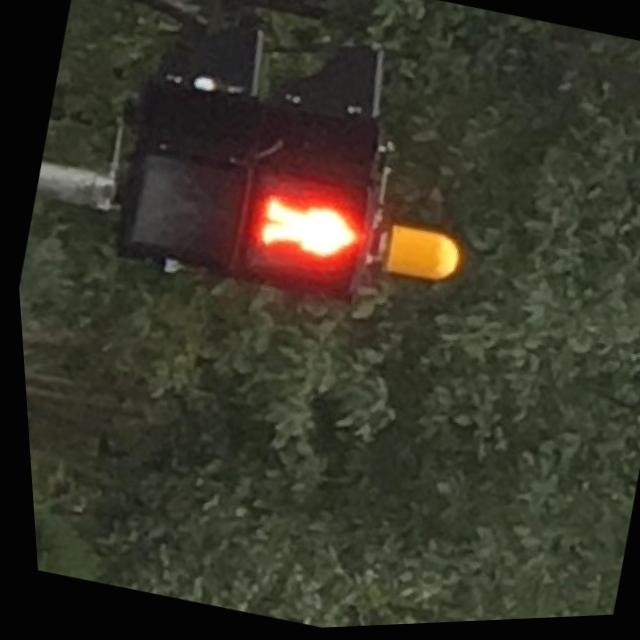red_light: (230, 171, 376, 303)
